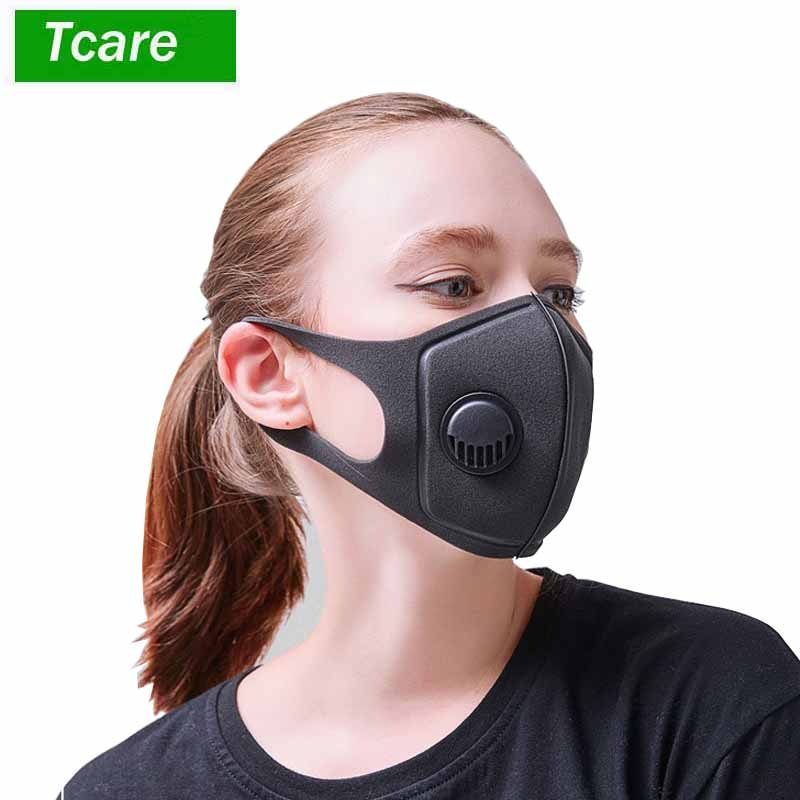mask: (183, 99, 640, 571)
